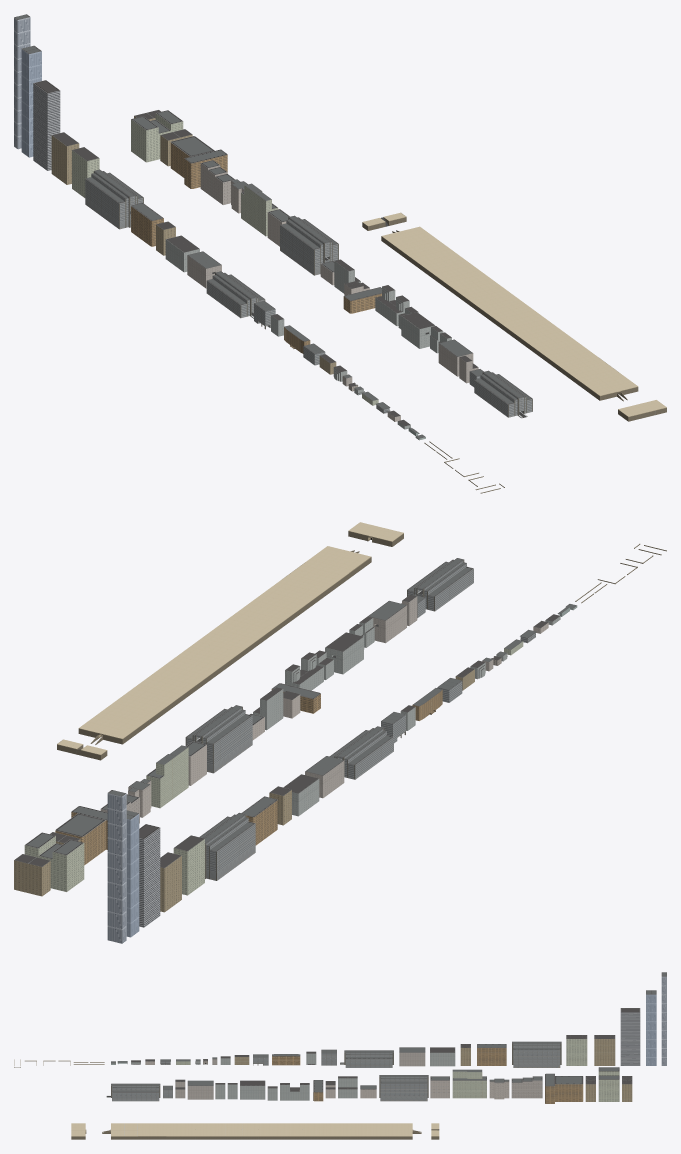
The model's file is Buildings.FBX.
The picture shows the model from 3 angles, top to bottom: view 1: azimuth 30°, elevation 25°; view 2: azimuth 150°, elevation 25°; view 3: azimuth 270°, elevation 25°; orthographic projection. The views are drawn at different scales.
Parts seen in each view (by area): view 1: BuildingSubwayA, BuildingSubwayB, BuildingMidToHighA2, BuildingEnterB, BuildingHighE, BuildingSubwayEntrance, BuildingSubwayExit, BuildingHighSpecialB1, BuildingStreetToMidA1, BuildingHighF, BuildingHighSpecialB3, BuildingEnterA (+12 smaller); view 2: BuildingSubwayB, BuildingSubwayA, BuildingHighG, BuildingSubwayExit, BuildingMidToHighA2, BuildingEnterB, BuildingSubwayEntrance, BuildingHighSpecialB3, BuildingHighE, BuildingStreetToMidA1, BuildingEnterA, BuildingHighSpecialA1 (+17 smaller); view 3: BuildingSubwayA, BuildingSubwayB, BuildingEnterB, BuildingMidToHighA2, BuildingHighE, BuildingSubwayExit, BuildingHighSpecialB1, BuildingHighSpecialA1, BuildingSubwayEntrance, BuildingStreetToMidA1, BuildingEnterA, BuildingHighF (+18 smaller).
Part boxes in pixels (x1,y1,x2,y2): BuildingSubwayA: (493,308,597,370); BuildingSubwayB: (426,259,530,322); BuildingMidToHighA2: (280,215,338,275); BuildingEnterB: (85,169,143,229); BuildingHighE: (33,80,60,170); BuildingSubwayEntrance: (559,357,638,401); BuildingSubwayExit: (381,226,463,273); BuildingHighSpecialB1: (170,136,227,188); BuildingStreetToMidA1: (474,370,532,418); BuildingHighF: (21,45,41,157); BuildingHighSpecialB3: (131,110,183,162); BuildingEnterA: (206,271,265,318); BuildingSubwayB: (130,635,249,706); BuildingSubwayA: (206,579,325,650); BuildingHighG: (107,790,126,943); BuildingSubwayExit: (78,691,173,744); BuildingMidToHighA2: (185,705,252,773); BuildingEnterB: (199,812,255,880); BuildingSubwayEntrance: (282,546,371,595); BuildingHighSpecialB3: (24,832,84,891); BuildingHighE: (139,824,160,927); BuildingStreetToMidA1: (407,558,473,611); BuildingEnterA: (329,726,393,779); BuildingHighSpecialA1: (146,745,188,808); BuildingSubwayA: (166,1123,258,1139); BuildingSubwayB: (259,1123,351,1139); BuildingEnterB: (512,1041,561,1067); BuildingMidToHighA2: (379,1075,428,1101); BuildingHighE: (620,1008,640,1065); BuildingSubwayExit: (351,1123,421,1139); BuildingHighSpecialB1: (545,1073,583,1103); BuildingHighSpecialA1: (452,1069,486,1098); BuildingSubwayEntrance: (102,1123,166,1139); BuildingStreetToMidA1: (106,1083,160,1101); BuildingEnterA: (340,1050,393,1067); BuildingHighF: (646,990,656,1065).
Size of the model in its own units: 739 by 414 by 2651.
